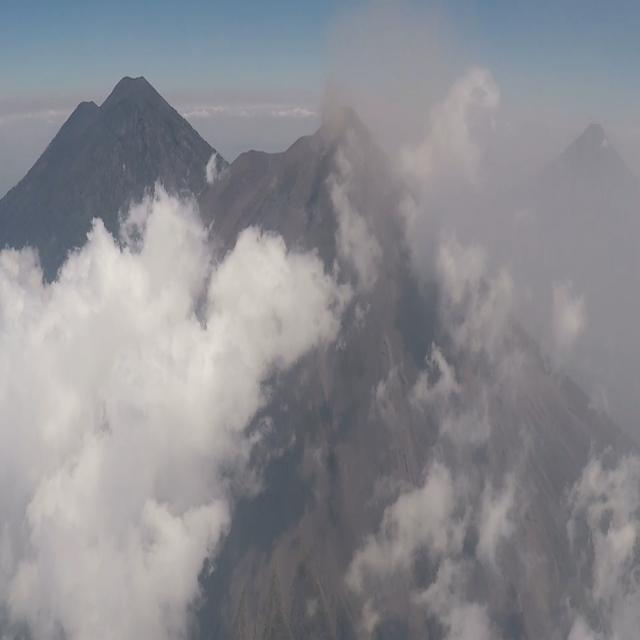Summit: (284, 98, 395, 176)
